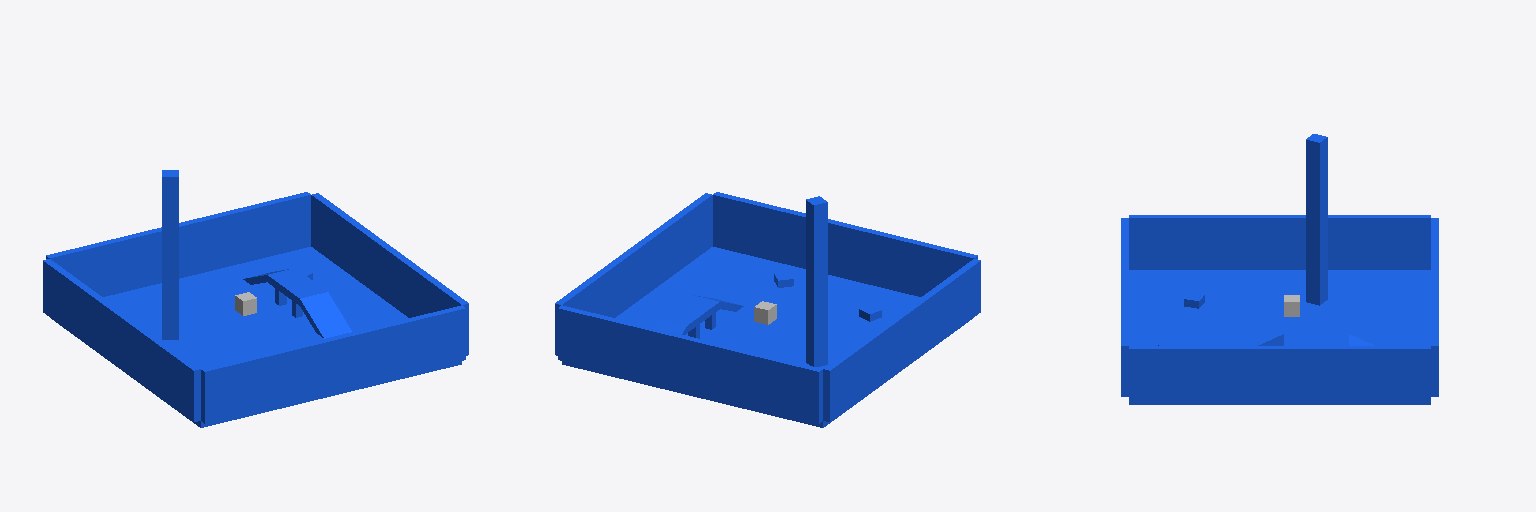
3 renders of one model, left to right at view 1: azimuth 30°, elevation 25°; view 2: azimuth 150°, elevation 25°; view 3: azimuth 270°, elevation 25°, orthographic.
Visible parts, largest first — view 1: Cube.006, Cube.003, Cube.004, Cube.001, Cube.002, Cube.011, Cube, Cube.005; view 2: Cube.006, Cube.004, Cube.003, Cube.001, Cube.002, Cube.011, Cube.005; view 3: Cube.006, Cube.002, Cube.001, Cube.011, Cube.003, Cube.004, Cube.005.
Boxes of the visible parts, x1=… form: Cube.006: x1=51, y1=247, x2=461, y2=427; Cube.003: x1=201, y1=305, x2=465, y2=423; Cube.004: x1=46, y1=192, x2=310, y2=296; Cube.001: x1=43, y1=259, x2=200, y2=421; Cube.002: x1=311, y1=193, x2=468, y2=355; Cube.011: x1=162, y1=170, x2=178, y2=339; Cube: x1=300, y1=292, x2=351, y2=338; Cube.005: x1=267, y1=268, x2=327, y2=305; Cube.006: x1=562, y1=247, x2=972, y2=427; Cube.004: x1=558, y1=305, x2=822, y2=423; Cube.003: x1=713, y1=192, x2=977, y2=296; Cube.001: x1=823, y1=259, x2=980, y2=421; Cube.002: x1=555, y1=193, x2=712, y2=355; Cube.011: x1=806, y1=196, x2=827, y2=366; Cube.005: x1=659, y1=295, x2=719, y2=332; Cube.006: x1=1129, y1=270, x2=1430, y2=404; Cube.002: x1=1129, y1=346, x2=1430, y2=400; Cube.001: x1=1129, y1=215, x2=1430, y2=269; Cube.011: x1=1306, y1=134, x2=1327, y2=305; Cube.003: x1=1121, y1=218, x2=1128, y2=396; Cube.004: x1=1431, y1=218, x2=1438, y2=396; Cube.005: x1=1284, y1=334, x2=1348, y2=345.
Size of the model in its own units: 39 by 23 by 39.